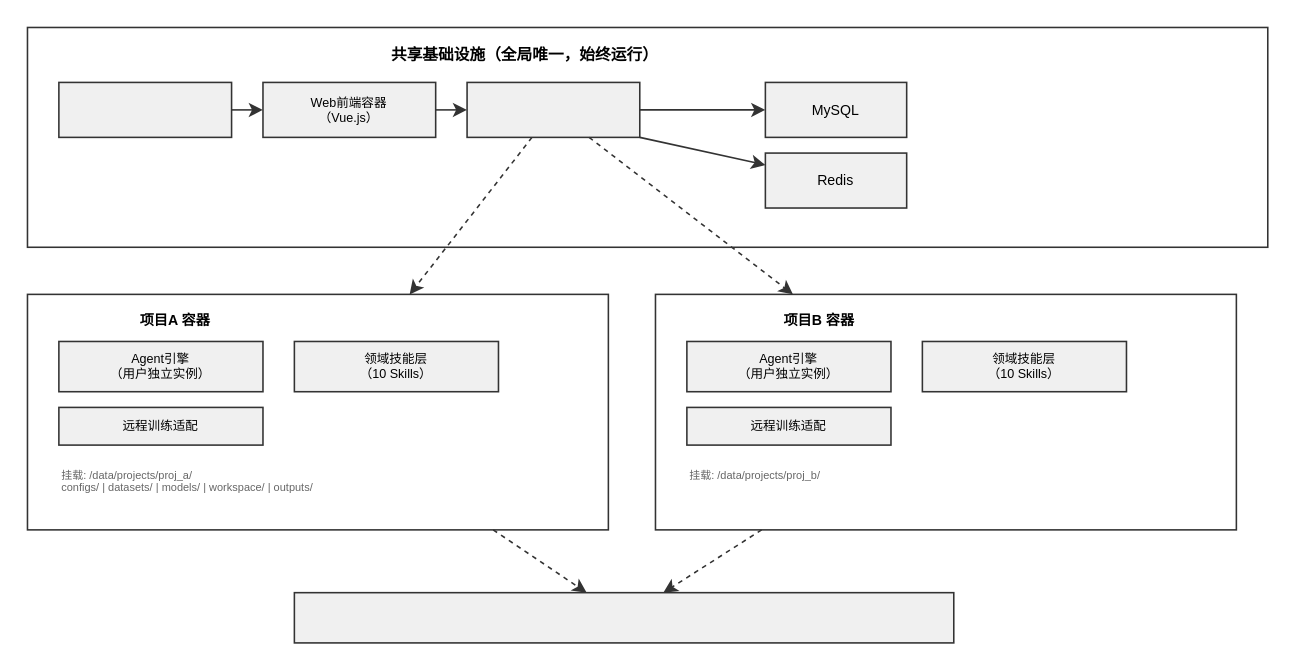
The diagram is 1295 pixels wide and 670 high, and some of its shapes have lost their labels. The shapes that lost their labels are listed below. From the top down, each one's centre as x and y in pixels, then its label:
(x=144, y=109): Nginx （反向代理）
(x=553, y=109): API服务容器 （FastAPI）
(x=623, y=617): 远程GPU训练集群
